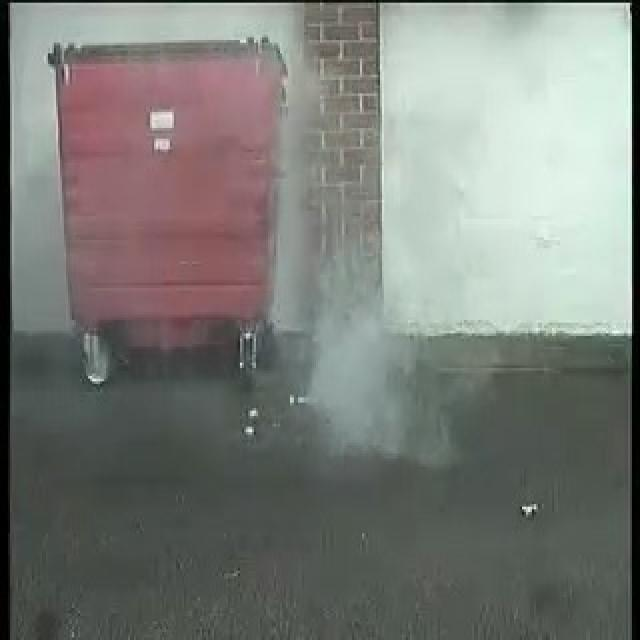Smoke: (318, 249, 424, 451)
